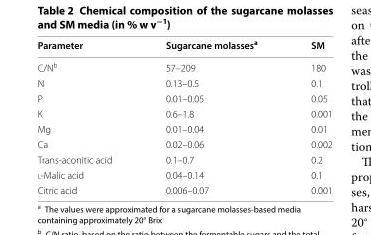table: (36, 36, 331, 195)
table column: (138, 36, 283, 195), (36, 36, 138, 195), (283, 36, 331, 195)
table column header: (36, 36, 331, 55)
table row: (36, 55, 331, 75), (36, 36, 331, 55), (36, 120, 331, 136), (36, 166, 331, 182), (36, 75, 331, 90), (36, 90, 331, 105), (36, 105, 331, 120), (36, 136, 331, 151), (36, 151, 331, 166), (36, 182, 331, 195)
